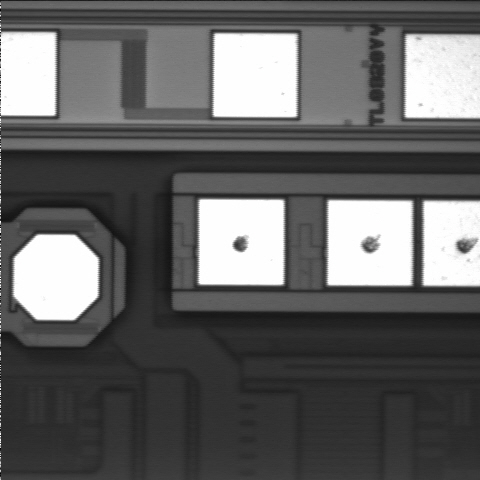pad: (199, 199, 284, 285), (328, 200, 412, 285), (14, 235, 98, 320), (214, 34, 297, 117)
